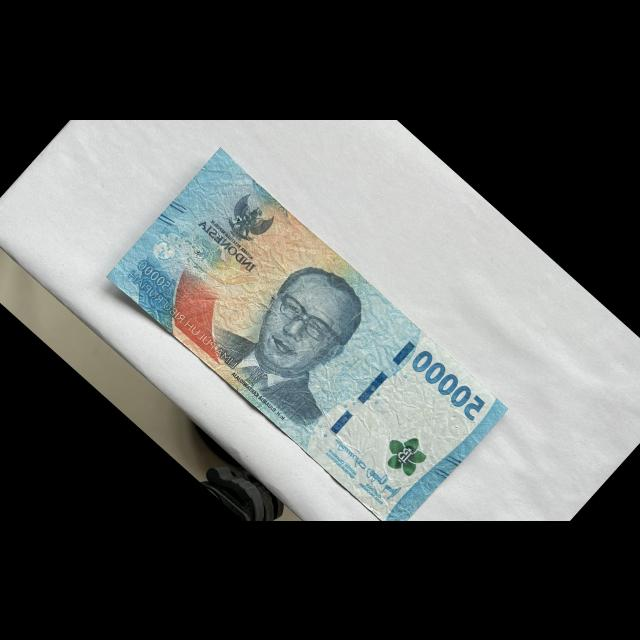Palsu-50k: (101, 142, 514, 539)
Tinta-Palsu-50k: (376, 424, 434, 481)
